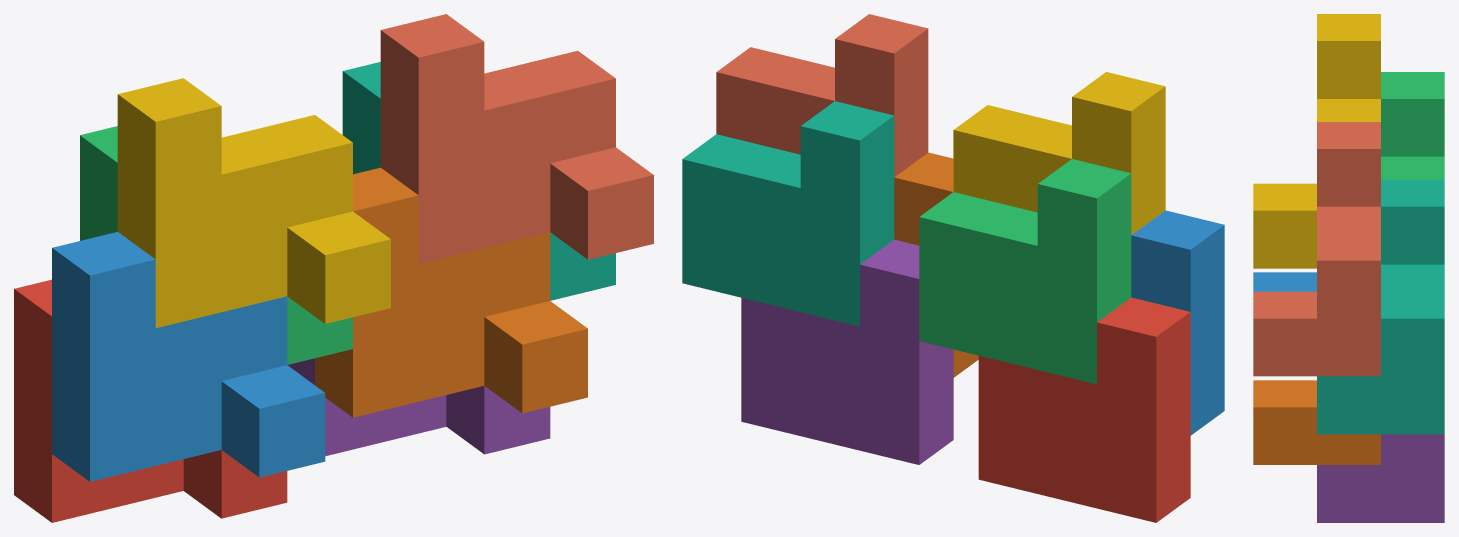
File: tiling.obj
3 views of the same model, side by side, from view 1: azimuth 30°, elevation 25°; view 2: azimuth 150°, elevation 25°; view 3: azimuth 270°, elevation 25° (orthographic). The views are drawn at different scales.
Parts seen in each view (by area): view 1: copy_1_domain_4, copy_1_domain_8, copy_1_domain_2, copy_1_domain_6, copy_1_domain_1, copy_1_domain_5, copy_1_domain_3, copy_1_domain_7; view 2: copy_1_domain_7, copy_1_domain_3, copy_1_domain_1, copy_1_domain_5, copy_1_domain_8, copy_1_domain_4, copy_1_domain_2, copy_1_domain_6; view 3: copy_1_domain_8, copy_1_domain_7, copy_1_domain_4, copy_1_domain_5, copy_1_domain_6, copy_1_domain_3, copy_1_domain_2.
Boxes of the visible parts, x1,y1,x2,y2 form: copy_1_domain_4: [117, 78, 390, 328]; copy_1_domain_8: [380, 14, 653, 263]; copy_1_domain_2: [52, 232, 325, 481]; copy_1_domain_6: [315, 167, 587, 417]; copy_1_domain_1: [14, 279, 287, 522]; copy_1_domain_5: [287, 358, 550, 456]; copy_1_domain_3: [80, 126, 352, 364]; copy_1_domain_7: [342, 62, 615, 300]; copy_1_domain_7: [682, 101, 894, 326]; copy_1_domain_3: [919, 159, 1131, 384]; copy_1_domain_1: [978, 297, 1190, 522]; copy_1_domain_5: [741, 239, 953, 464]; copy_1_domain_8: [716, 14, 928, 176]; copy_1_domain_4: [953, 72, 1165, 234]; copy_1_domain_2: [1131, 210, 1224, 435]; copy_1_domain_6: [894, 152, 978, 377]; copy_1_domain_8: [1253, 122, 1380, 376]; copy_1_domain_7: [1317, 179, 1444, 434]; copy_1_domain_4: [1253, 14, 1380, 268]; copy_1_domain_5: [1317, 434, 1444, 522]; copy_1_domain_6: [1253, 380, 1380, 464]; copy_1_domain_3: [1381, 72, 1444, 179]; copy_1_domain_2: [1253, 272, 1316, 291].
Size of the model in its own units: 8 by 6 by 3.
